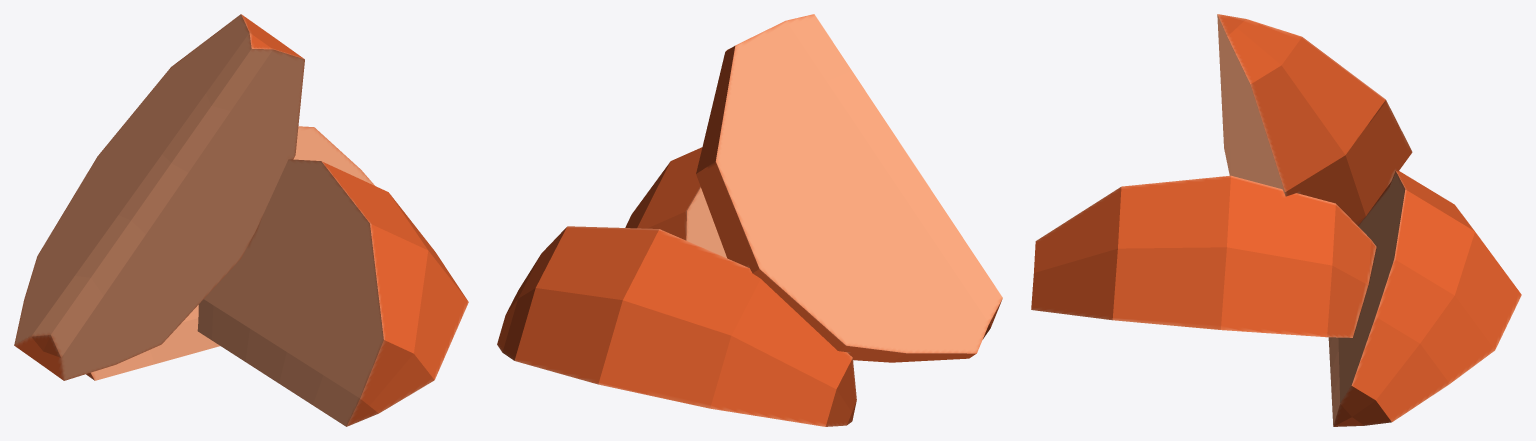
The model's file is cut_tomato.fbx.
3 renders of one model, left to right at view 1: azimuth 30°, elevation 25°; view 2: azimuth 150°, elevation 25°; view 3: azimuth 270°, elevation 25°, orthographic. The views are drawn at different scales.
Parts seen in each view (by area): view 1: Cut_Tomato; view 2: Cut_Tomato; view 3: Cut_Tomato.
Part boxes in pixels (x1=…): Cut_Tomato: x1=14, y1=14, x2=468, y2=426; Cut_Tomato: x1=497, y1=14, x2=1002, y2=426; Cut_Tomato: x1=1031, y1=14, x2=1521, y2=426.
Size of the model in its own units: 78.53 by 61 by 82.86.
